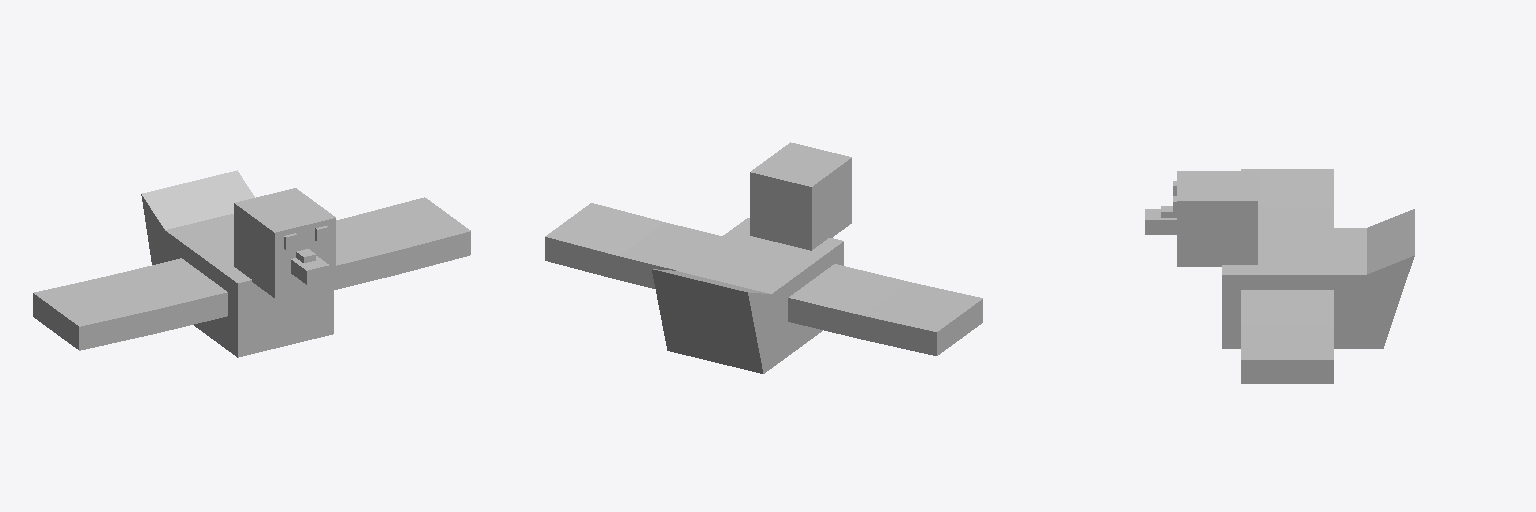
The model's file is ave_02.obj.
The picture shows the model from 3 angles: view 1: azimuth 30°, elevation 25°; view 2: azimuth 150°, elevation 25°; view 3: azimuth 270°, elevation 25°; orthographic projection.
Visible parts, largest first — view 1: _pCube25; view 2: _pCube25; view 3: _pCube25.
Boxes of the visible parts, box(x1,y1,x2,y2) form: _pCube25: box(33, 170, 470, 357); _pCube25: box(545, 142, 982, 373); _pCube25: box(1145, 169, 1414, 383).
Bounding box in the file's own units: 17.04 × 5.73 × 10.15.